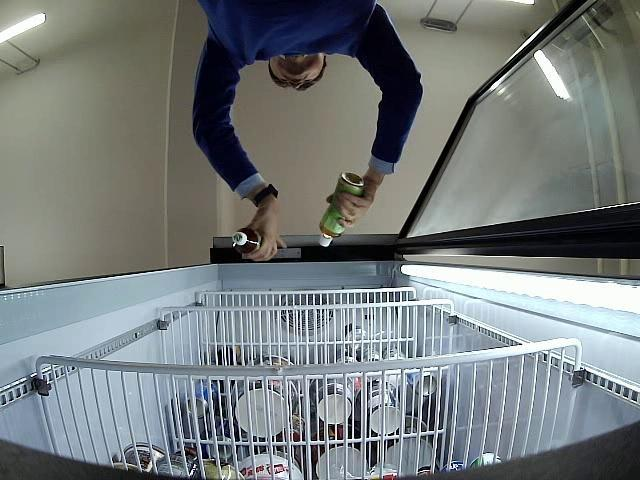19_17cha: (318, 172, 364, 249), (231, 226, 261, 254)
